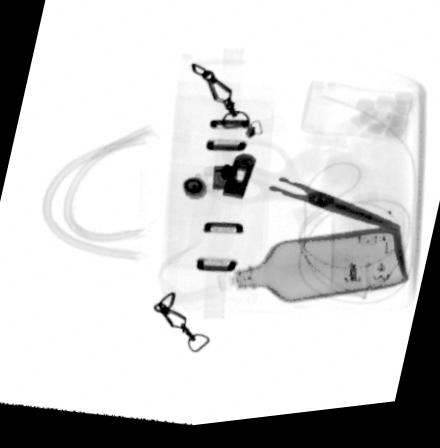Scissors: (195, 141, 405, 243)
